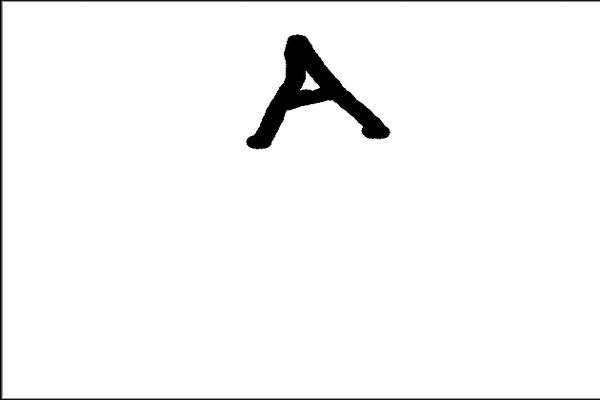A: (233, 26, 395, 150)
